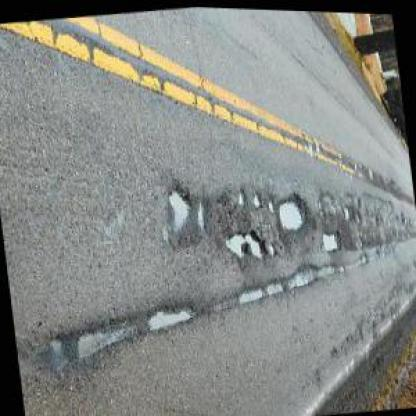pothole: (72, 317, 139, 362), (223, 224, 268, 260), (277, 192, 315, 232), (146, 302, 196, 332), (168, 183, 195, 229), (287, 261, 323, 288), (237, 282, 268, 304), (319, 227, 344, 251), (194, 197, 210, 227), (251, 189, 265, 208), (237, 187, 247, 207), (342, 203, 354, 219), (266, 198, 278, 211)
